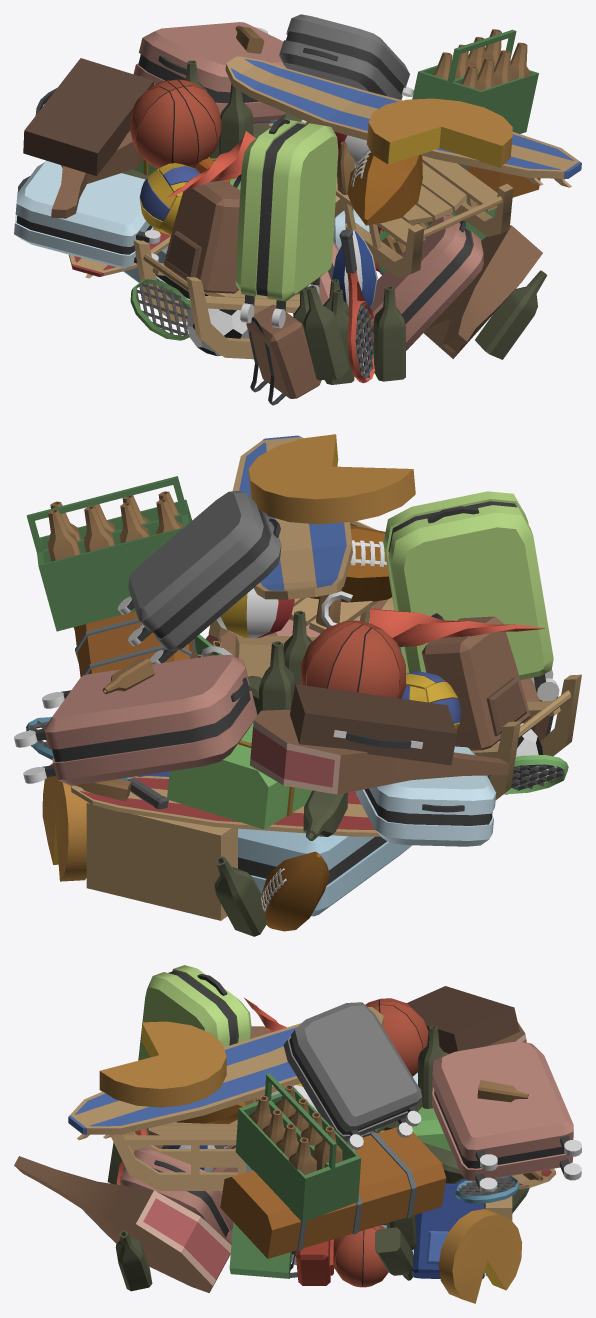
The model's file is Groupe_Bagage_40.fbx.
The picture shows the model from 3 angles, top to bottom: view 1: azimuth 30°, elevation 25°; view 2: azimuth 150°, elevation 25°; view 3: azimuth 270°, elevation 25°; orthographic projection. The views are drawn at different scales.
Parts seen in each view (by area): view 1: Groupe_Bagage_40; view 2: Groupe_Bagage_40; view 3: Groupe_Bagage_40.
Boxes of the visible parts, box(x1,y1,x2,y2) form: Groupe_Bagage_40: box(14, 14, 581, 405); Groupe_Bagage_40: box(14, 434, 581, 936); Groupe_Bagage_40: box(14, 965, 581, 1303).
Bounding box in the file's own units: 307 × 181 × 356.
Materials: 1 (1 with a texture image).
